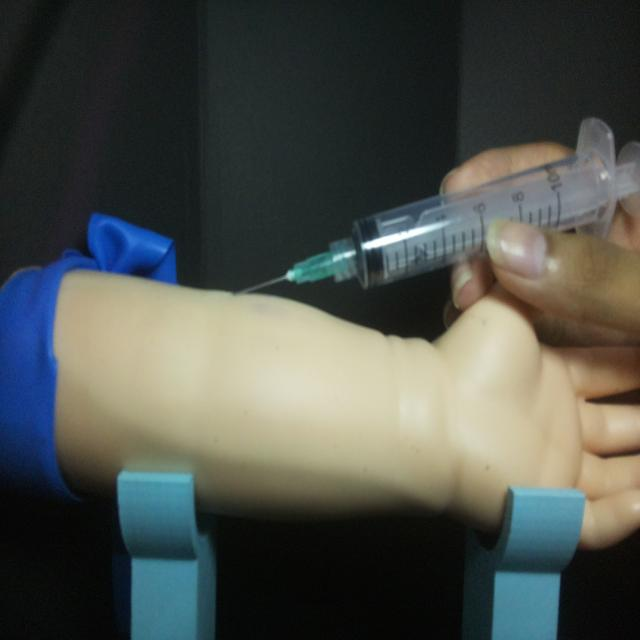20deg: (232, 114, 637, 300)
